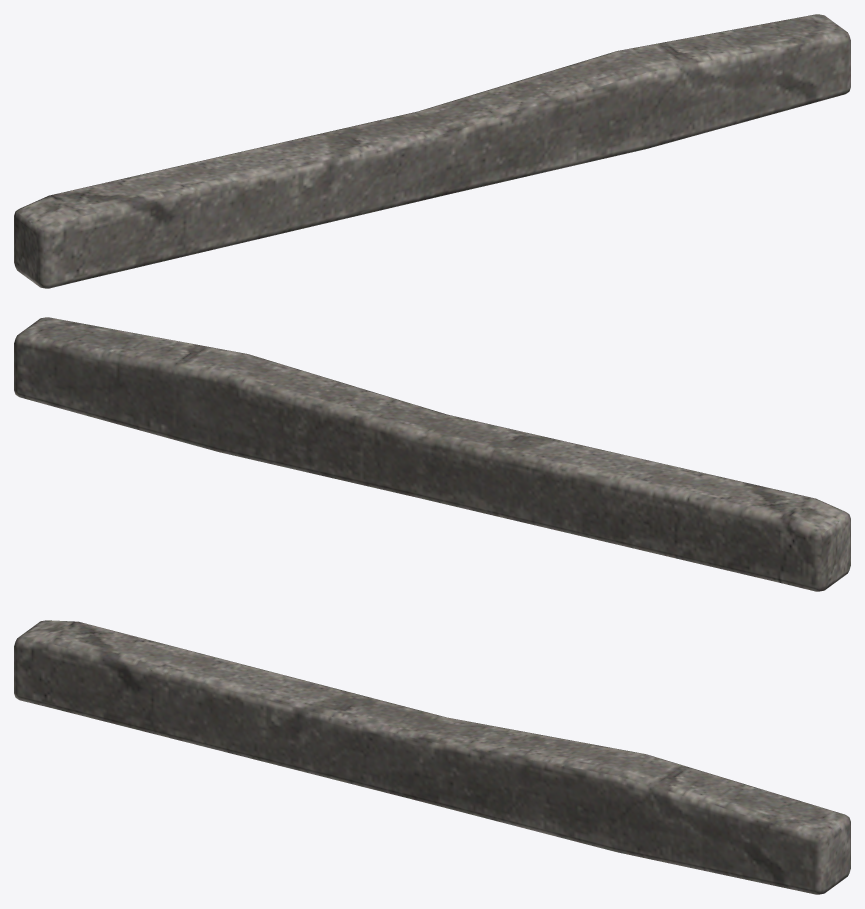
Rendered from Сurbstone_02.fbx.
3 renders of one model, top to bottom at view 1: azimuth 30°, elevation 25°; view 2: azimuth 150°, elevation 25°; view 3: azimuth 330°, elevation 25°, orthographic.
Visible parts, largest first — view 1: Сurbstone_02_LOD0; view 2: Сurbstone_02_LOD0; view 3: Сurbstone_02_LOD0.
Part boxes in pixels (x1,y1,x2,y2): Сurbstone_02_LOD0: (14,14,850,288); Сurbstone_02_LOD0: (14,317,850,591); Сurbstone_02_LOD0: (14,620,850,894).
Size of what is drawn, in the model's own units: 200 by 19.08 by 13.75.
